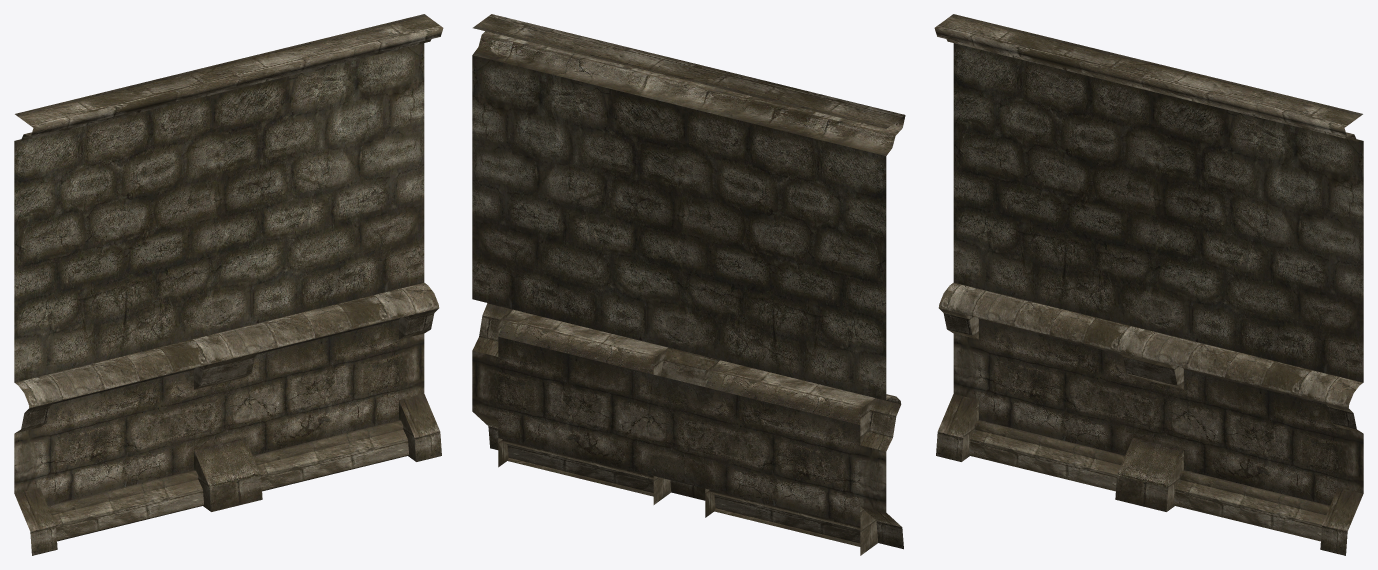
Rendered from default_worn_amfp.dae.
The picture shows the model from 3 angles, left to right: view 1: azimuth 30°, elevation 25°; view 2: azimuth 150°, elevation 25°; view 3: azimuth 330°, elevation 25°; orthographic projection.
Visible parts, largest first — view 1: castlebase_default_worn_mesh; view 2: castlebase_default_worn_mesh; view 3: castlebase_default_worn_mesh.
Boxes of the visible parts, <box> form: castlebase_default_worn_mesh: <box>14,14,443,555</box>; castlebase_default_worn_mesh: <box>472,14,905,555</box>; castlebase_default_worn_mesh: <box>934,14,1363,555</box>.
Bounding box in the file's own units: 4 × 4 × 0.3219.
